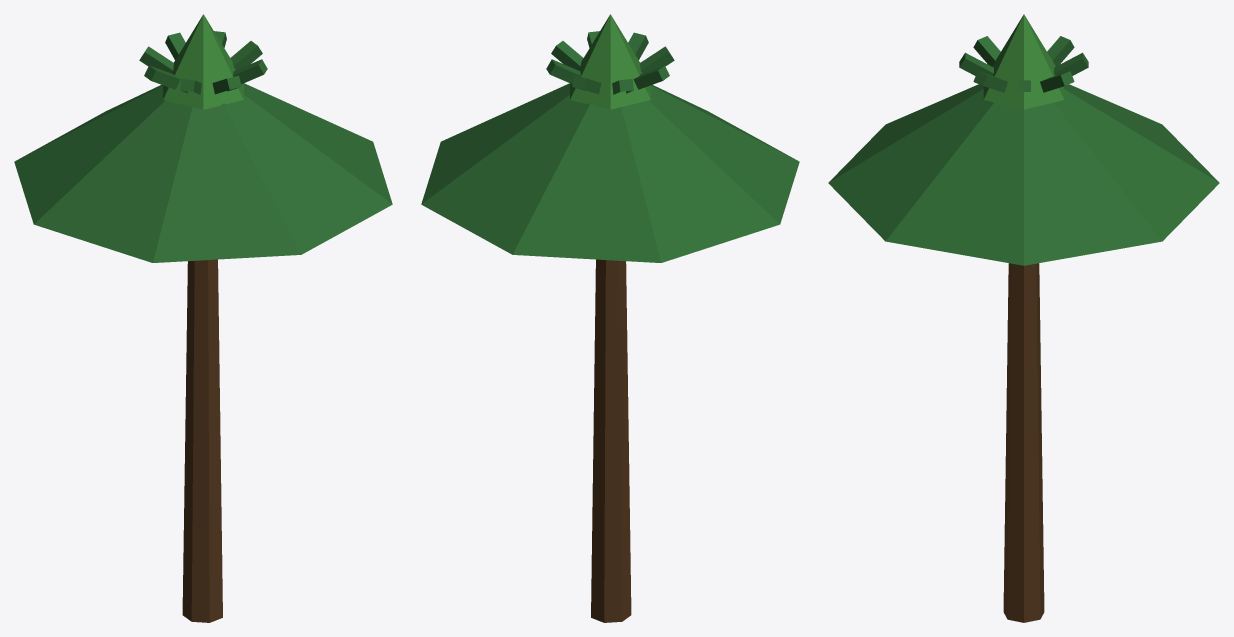
The model's file is araucaria.obj.
3 views of the same model, side by side, from view 1: azimuth 30°, elevation 25°; view 2: azimuth 150°, elevation 25°; view 3: azimuth 270°, elevation 25° (orthographic).
Visible parts, largest first — view 1: araucaria; view 2: araucaria; view 3: araucaria.
Boxes of the visible parts, x1=… form: araucaria: x1=14, y1=14, x2=392, y2=622; araucaria: x1=421, y1=14, x2=799, y2=622; araucaria: x1=828, y1=14, x2=1219, y2=622.
Bounding box in the file's own units: 8.4 × 14.2 × 8.4.
